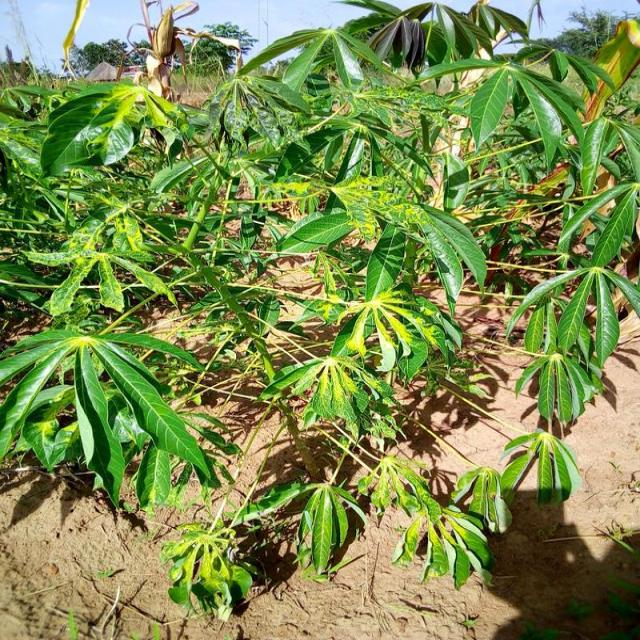cassava leaf: (2, 1, 640, 609), (2, 320, 219, 510)
